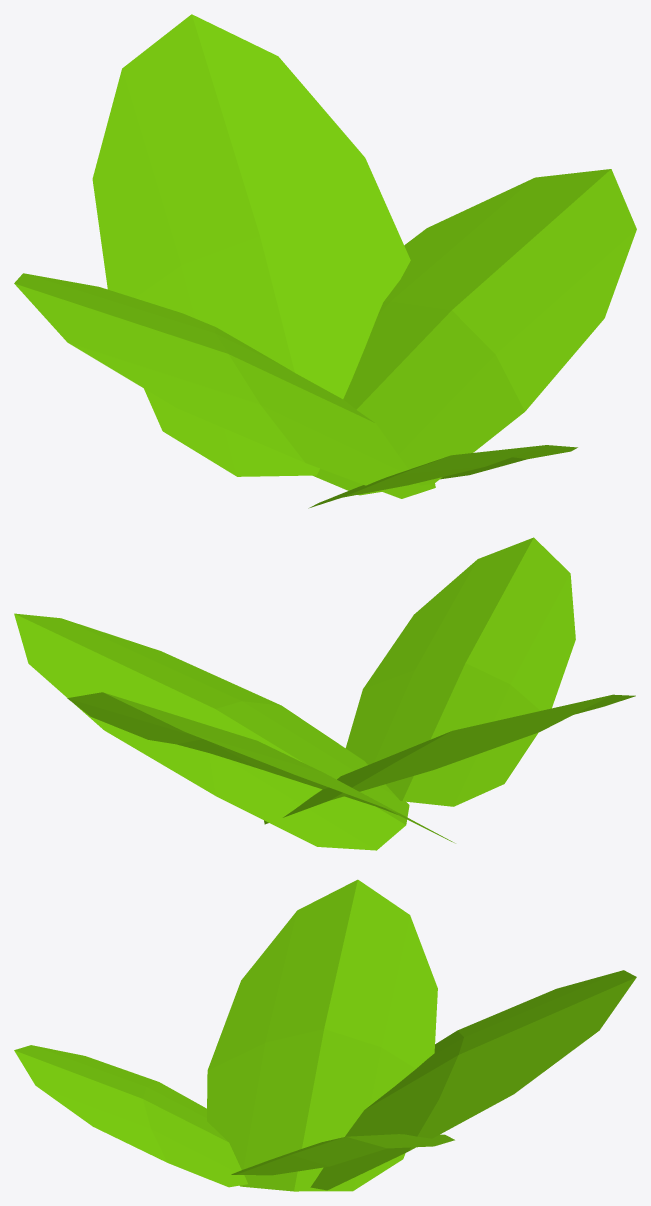
Rendered from Grass_41.fbx.
3 views of the same model, one above another, from view 1: azimuth 30°, elevation 25°; view 2: azimuth 150°, elevation 25°; view 3: azimuth 270°, elevation 25° (orthographic). The views are drawn at different scales.
Parts seen in each view (by area): view 1: Grass_41; view 2: Grass_41; view 3: Grass_41.
Part boxes in pixels (left/top/right/bottom): Grass_41: left=14, top=14, right=636, bottom=508; Grass_41: left=14, top=537, right=635, bottom=850; Grass_41: left=14, top=879, right=636, bottom=1191.
Size of the model in its own units: 42.69 by 18.62 by 48.75.
